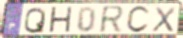0: (77, 6, 98, 34)
C: (125, 5, 152, 35)
H: (47, 6, 74, 35)
Q: (23, 6, 47, 35)
R: (98, 4, 126, 35)
X: (150, 6, 177, 33)
